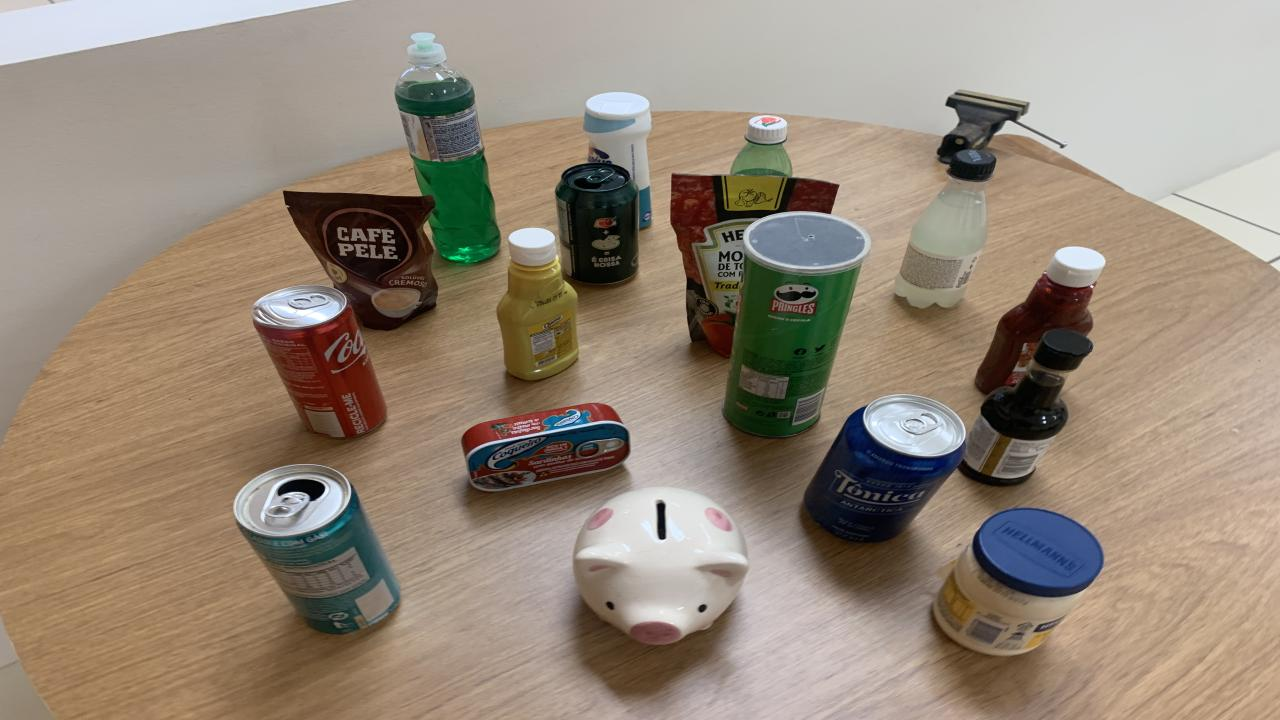Cleaner-Cleanup_Items: (582, 92, 652, 229)
Coffee-Pantry_Items: (282, 191, 438, 330)
Coke-Drinks: (252, 285, 388, 439)
Detergent-Cleanup_Items: (395, 32, 500, 262)
English_Sauce-Pantry_Items: (960, 328, 1092, 486)
Guarana-Drinks: (730, 114, 792, 176)
Guarana_Can-Drinks: (555, 163, 640, 283)
Ketchup-Pantry_Items: (252, 285, 388, 437), (975, 248, 1105, 394)
Mayonnaise-Pantry_Items: (932, 508, 1102, 656)
Mustard-Pantry_Items: (498, 227, 578, 381)
Pig_Safe-Miscellaneous: (572, 488, 750, 645)
Pringles-Snacks: (722, 212, 870, 437)
Soda-Drinks: (895, 150, 995, 308)
Tea-Drinks: (232, 465, 400, 634)
Tomato_Sauce-Pantry_Items: (670, 174, 838, 356)
Tonic-Drinks: (805, 394, 965, 542)
Tuna_Can-Pantry_Items: (462, 403, 630, 491)
